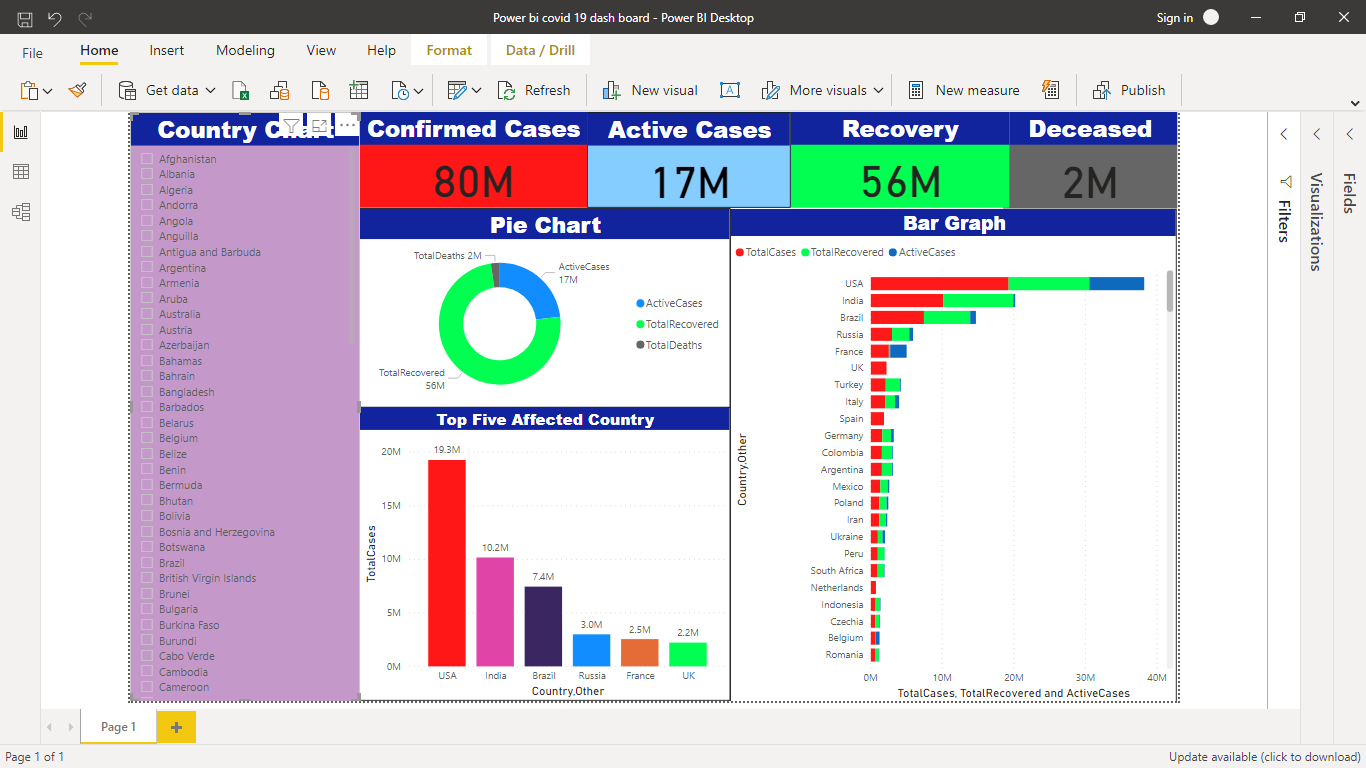

What the dashboard file says about the page in this screenshot:
{"tool":"powerbi","page":{"name":"Page 1","canvas":[1280,720],"ordinal":0},"visuals":[{"type":"slicer","title":"Country Chart","fields":{"Values":["Table 3.Country,Other"]},"box":[0,0,280.8,721.2],"z":0},{"type":"card","title":"Active Cases","fields":{"Values":["Sum(Table 3.ActiveCases)"]},"box":[558.8,0,249.1,117],"z":1},{"type":"card","title":"Confirmed Cases","fields":{"Values":["Sum(Table 3.TotalCases)"]},"box":[280.8,0,278,117],"z":2},{"type":"card","title":"Deceased","fields":{"Values":["Sum(Table 3.TotalDeaths)"]},"box":[1066.7,0,213.3,118.4],"z":3},{"type":"card","title":"Recovery","fields":{"Values":["Sum(Table 3.TotalRecovered)"]},"box":[807.9,0,267,117],"z":4},{"type":"donutChart","title":"Pie Chart","fields":{"Y":["Sum(Table 3.ActiveCases)","Sum(Table 3.TotalRecovered)","Sum(Table 3.TotalDeaths)"]},"box":[280.5,117.6,453.5,243.6],"z":5},{"type":"clusteredColumnChart","title":"Top Five Affected Country","fields":{"Category":["Table 3.Country,Other"],"Y":["Sum(Table 3.TotalCases)"]},"box":[280.5,361.2,453.5,359.5],"z":6},{"type":"barChart","title":"Bar Graph","fields":{"Category":["Table 3.Country,Other"],"Y":["Sum(Table 3.TotalCases)","Sum(Table 3.TotalRecovered)","Sum(Table 3.ActiveCases)"]},"box":[733.6,118.4,546.4,602.8],"z":7}]}

Visuals, with their boxes on the page's 1280x720 design canvas (x1, y1, x2, y2). These are canvas units, not pixel positions in the 1366x768 screenshot, which may show the page scaled, cropped or inside an application window:
"Country Chart" slicer: x1=0 y1=0 x2=281 y2=721
"Active Cases" card: x1=559 y1=0 x2=808 y2=117
"Confirmed Cases" card: x1=281 y1=0 x2=559 y2=117
"Deceased" card: x1=1067 y1=0 x2=1280 y2=118
"Recovery" card: x1=808 y1=0 x2=1075 y2=117
"Pie Chart" donutChart: x1=280 y1=118 x2=734 y2=361
"Top Five Affected Country" clusteredColumnChart: x1=280 y1=361 x2=734 y2=721
"Bar Graph" barChart: x1=734 y1=118 x2=1280 y2=721
